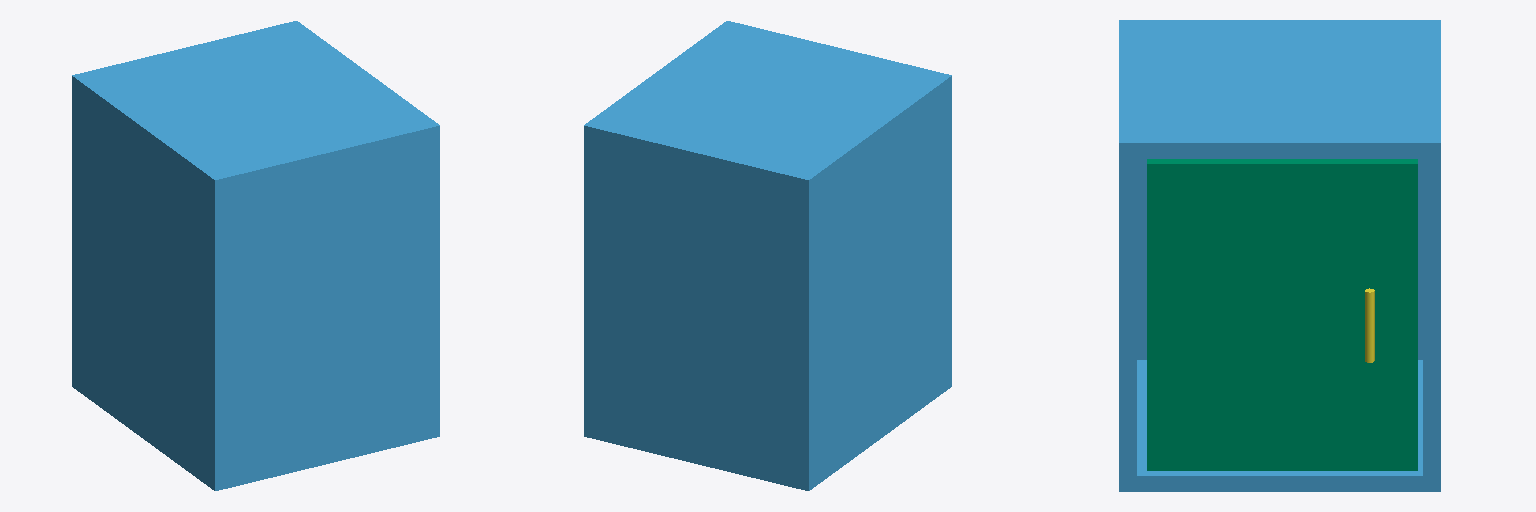
robot.urdf — my_cabinet:
<?xml version="1.0" ?>
<robot name="my_cabinet">
	<link name="world"/>
	<joint name="virtual_joint" type="fixed">
		<parent link="world"/>
		<child link="base_cabinet_link"/>
		<origin xyz="0.0 0.0 0.0" rpy="0.0 0.0 0.0"/>
	</joint>
	<link name="base_cabinet_link">
		<visual>
			<origin xyz="0.0 -0.0025 -0.189" rpy="0.0 0.0 0.0"/>
			<geometry>
				<box size="0.3 0.331 0.018"/>
			</geometry>
		</visual>
		<collision name="base_cabinet_link_collision_0">
			<origin xyz="0.0 -0.0025 -0.189" rpy="0.0 0.0 0.0"/>
			<geometry>
				<box size="0.3 0.331 0.018"/>
			</geometry>
		</collision>
		<visual>
			<origin xyz="0.0 0.15400000000000003 0.0" rpy="0.0 0.0 0.0"/>
			<geometry>
				<box size="0.3 0.018 0.396"/>
			</geometry>
		</visual>
		<collision name="base_cabinet_link_collision_1">
			<origin xyz="0.0 0.15400000000000003 0.0" rpy="0.0 0.0 0.0"/>
			<geometry>
				<box size="0.3 0.018 0.396"/>
			</geometry>
		</collision>
		<visual>
			<origin xyz="0.0 -0.15900000000000003 0.0" rpy="0.0 0.0 0.0"/>
			<geometry>
				<box size="0.3 0.018 0.396"/>
			</geometry>
		</visual>
		<collision name="base_cabinet_link_collision_2">
			<origin xyz="0.0 -0.15900000000000003 0.0" rpy="0.0 0.0 0.0"/>
			<geometry>
				<box size="0.3 0.018 0.396"/>
			</geometry>
		</collision>
		<visual>
			<origin xyz="0.0 -0.0025 0.189" rpy="0.0 0.0 0.0"/>
			<geometry>
				<box size="0.3 0.331 0.018"/>
			</geometry>
		</visual>
		<collision name="base_cabinet_link_collision_3">
			<origin xyz="0.0 -0.0025 0.189" rpy="0.0 0.0 0.0"/>
			<geometry>
				<box size="0.3 0.331 0.018"/>
			</geometry>
		</collision>
		<visual>
			<origin xyz="-0.141 -0.0025 0.0" rpy="0.0 0.0 0.0"/>
			<geometry>
				<box size="0.018 0.331 0.396"/>
			</geometry>
		</visual>
		<collision name="base_cabinet_link_collision_4">
			<origin xyz="-0.141 -0.0025 0.0" rpy="0.0 0.0 0.0"/>
			<geometry>
				<box size="0.018 0.331 0.396"/>
			</geometry>
		</collision>
		<inertial>
			<mass value="0.200000"/>
			<inertia ixx="0.004440" ixy="0.0" ixz="0.0" iyy="0.004114" iyz="0.0" izz="0.003326"/>
		</inertial>
	</link>
	<link name="door_link">
		<visual>
			<origin xyz="0.0 -0.14 0.0"/>
			<geometry>
				<box size="0.018 0.28 0.35"/>
			</geometry>
		</visual>
		<collision name="door_link_collision">
			<origin xyz="0.0 -0.14 0.0"/>
			<geometry>
				<box size="0.018 0.28 0.35"/>
			</geometry>
		</collision>
		<inertial>
			<mass value="0.200000"/>
			<inertia ixx="0.003348" ixy="0.0" ixz="0.0" iyy="0.002047" iyz="0.0" izz="0.001312"/>
		</inertial>
	</link>
	<joint name="door_joint" type="revolute">
		<origin xyz="0.141 -0.14 0.0" rpy="0.000000 -0.000000 3.141593"/>
		<axis xyz="0 0 1"/>
		<parent link="base_cabinet_link"/>
		<child link="door_link"/>
		<limit effort="50" lower="-1.658062789394613" upper="0" velocity="10"/>
		<dynamics friction="3.5" damping="3.5"/>
	</joint>
	<link name="handle_link">
		<visual>
			<origin xyz="0.0 0.0 0.0" rpy="0.0 0.0 0.0"/>
			<geometry>
				<cylinder length="0.08" radius="0.005"/>
			</geometry>
		</visual>
		<collision name="handle_link_collision_0">
			<origin xyz="0.0 0.0 0.0" rpy="0.0 0.0 0.0"/>
			<geometry>
				<cylinder length="0.08" radius="0.005"/>
			</geometry>
		</collision>
		<visual>
			<origin xyz="-0.01 0.0 0.02" rpy="0.0 1.5707963267948966 0.0"/>
			<geometry>
				<cylinder length="0.02" radius="0.003"/>
			</geometry>
		</visual>
		<collision name="handle_link_collision_1">
			<origin xyz="-0.01 0.0 0.02" rpy="0.0 1.5707963267948966 0.0"/>
			<geometry>
				<cylinder length="0.01" radius="0.003"/>
			</geometry>
		</collision>
		<visual>
			<origin xyz="-0.01 0.0 -0.02" rpy="0.0 1.5707963267948966 0.0"/>
			<geometry>
				<cylinder length="0.02" radius="0.003"/>
			</geometry>
		</visual>
		<collision name="handle_link_collision_2">
			<origin xyz="-0.01 0.0 -0.02" rpy="0.0 1.5707963267948966 0.0"/>
			<geometry>
				<cylinder length="0.02" radius="0.003"/>
			</geometry>
		</collision>
		<inertial>
			<mass value="0.050000"/>
			<inertia ixx="0.000027" ixy="0.0" ixz="0.0" iyy="0.000029" iyz="0.0" izz="0.000003"/>
		</inertial>
	</link>
	<joint name="handle_joint" type="fixed">
		<origin xyz="-0.028999999999999998 -0.23000000000000004 0.0" rpy="0.000000 -0.000000 3.141593"/>
		<parent link="door_link"/>
		<child link="handle_link"/>
	</joint>
	<gazebo reference="base_cabinet_link">
		<sensor name="main_sensor" type="contact">
			<selfCollide>true</selfCollide>
			<alwaysOn>true</alwaysOn>
			<updateRate>5.0</updateRate>
			<material>Gazebo/Red</material>
			<contact>
				<collision>base_cabinet_link_collision_0_collision</collision>
				<collision>base_cabinet_link_collision_1_collision</collision>
				<collision>base_cabinet_link_collision_2_collision</collision>
				<collision>base_cabinet_link_collision_3_collision</collision>
				<collision>base_cabinet_link_collision_4_collision</collision>
			</contact>
			<plugin name="gazebo_ros_bumper_controller" filename="libgazebo_ros_bumper.so">
				<bumperTopicName>/contact</bumperTopicName>
				<frameName>world</frameName>
			</plugin>
		</sensor>
	</gazebo>
	<gazebo reference="door_link">
		<sensor name="main_sensor" type="contact">
			<selfCollide>true</selfCollide>
			<alwaysOn>true</alwaysOn>
			<updateRate>5.0</updateRate>
			<material>Gazebo/Red</material>
			<contact>
				<collision>door_link_collision_collision</collision>
			</contact>
			<plugin name="gazebo_ros_bumper_controller" filename="libgazebo_ros_bumper.so">
				<bumperTopicName>/contact_door</bumperTopicName>
				<frameName>contact_door</frameName>
			</plugin>
		</sensor>
	</gazebo>
	<gazebo reference="door_link">
		<mu>3.0</mu>
		<mu2>3.0</mu2>
		<kp>10000000</kp>
		<kd>100</kd>
	</gazebo>
</robot>

--- Render facts (derived) ---
The picture shows the robot from 3 angles, left to right: view 1: azimuth 30°, elevation 25°; view 2: azimuth 150°, elevation 25°; view 3: azimuth 270°, elevation 25°; orthographic projection.
Robot: my_cabinet — 4 links, 3 joints (1 revolute, 2 fixed); root link world; default pose: every joint at zero.
Visible links, largest first — view 1: base_cabinet_link; view 2: base_cabinet_link; view 3: door_link, base_cabinet_link, handle_link.
Link boxes in pixels (x1,y1,x2,y2): base_cabinet_link: (72,21,439,490); base_cabinet_link: (584,21,951,490); door_link: (1147,159,1417,470); base_cabinet_link: (1119,20,1440,491); handle_link: (1365,288,1374,362).
Size in the robot's own frame: 0.325 by 0.331 by 0.396 metres.
Geometry: primitives only (box / cylinder / sphere), no mesh files.
